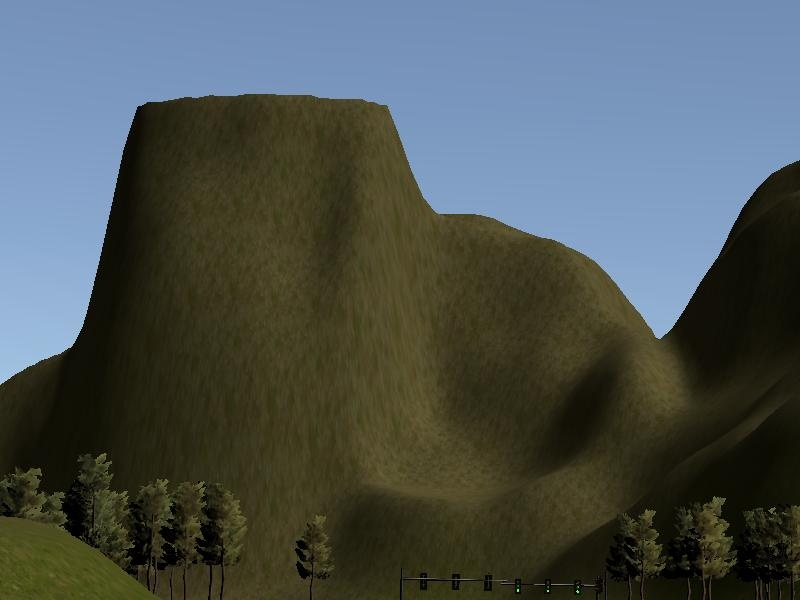green: (574, 579, 581, 597), (545, 578, 551, 595), (515, 579, 521, 595)
